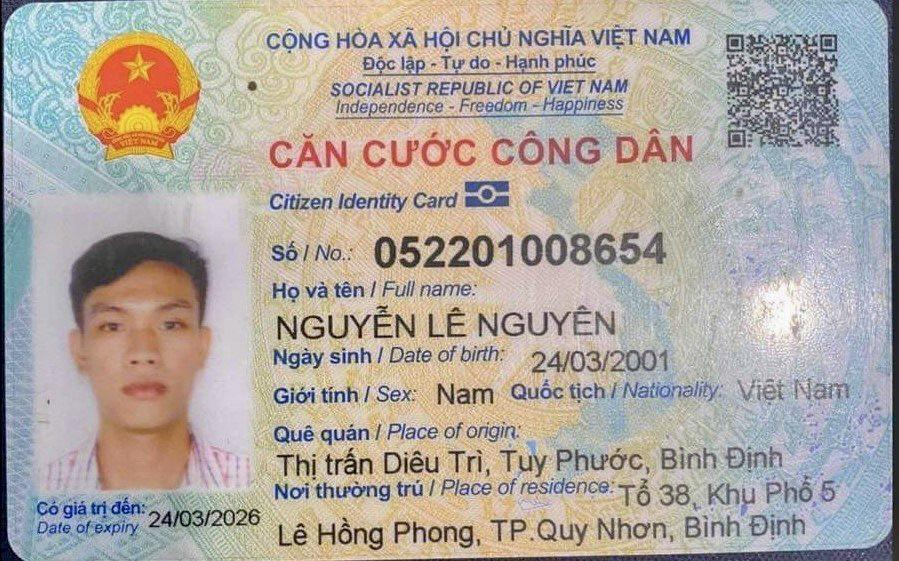ID: (369, 224, 671, 275)
birth: (526, 346, 680, 377)
name: (272, 301, 633, 343)
place: (270, 441, 792, 480)
residence: (271, 506, 814, 556), (617, 472, 845, 513)
